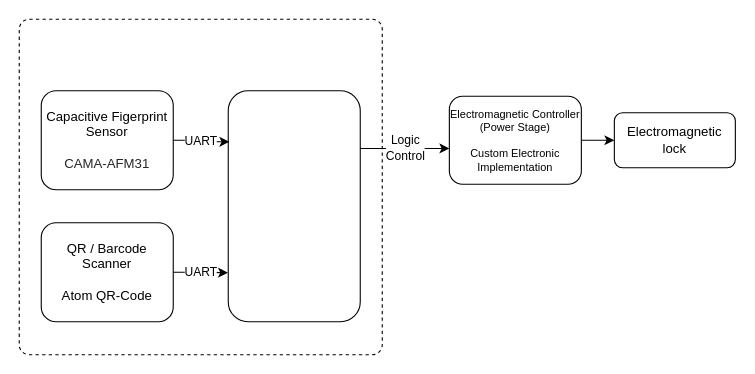
Image size: 755x374. Some labels were removed from this diagram. The shapes that lost their labels are listed below. From the top down, each one's box as (x1, y1, x2, y2) in pixels, then its label:
(18, 18, 382, 355): Access Controller
(227, 90, 360, 322): MCU with WiFi or Ethernet Stack ESP32
